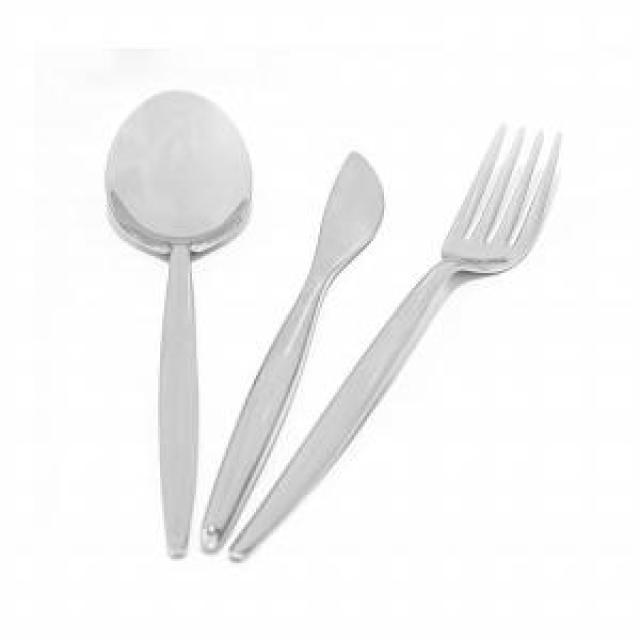knife: (194, 111, 407, 561)
